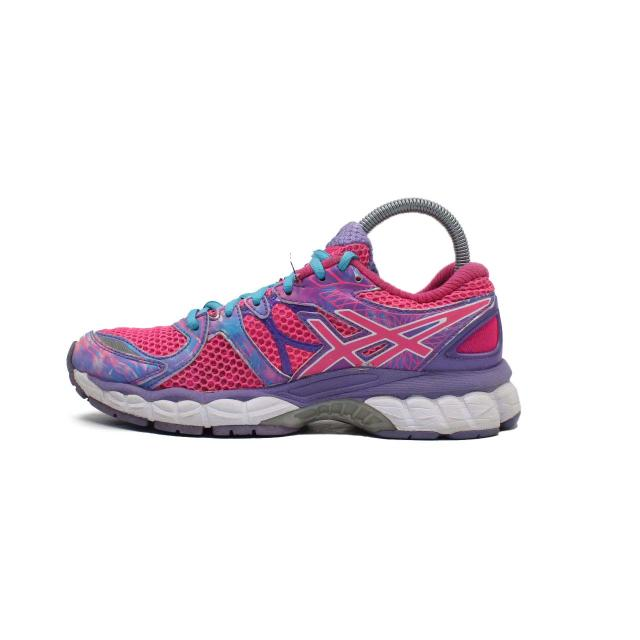heel: (455, 269, 504, 374)
midsole: (64, 340, 518, 441)
uppersole: (62, 219, 466, 391)
